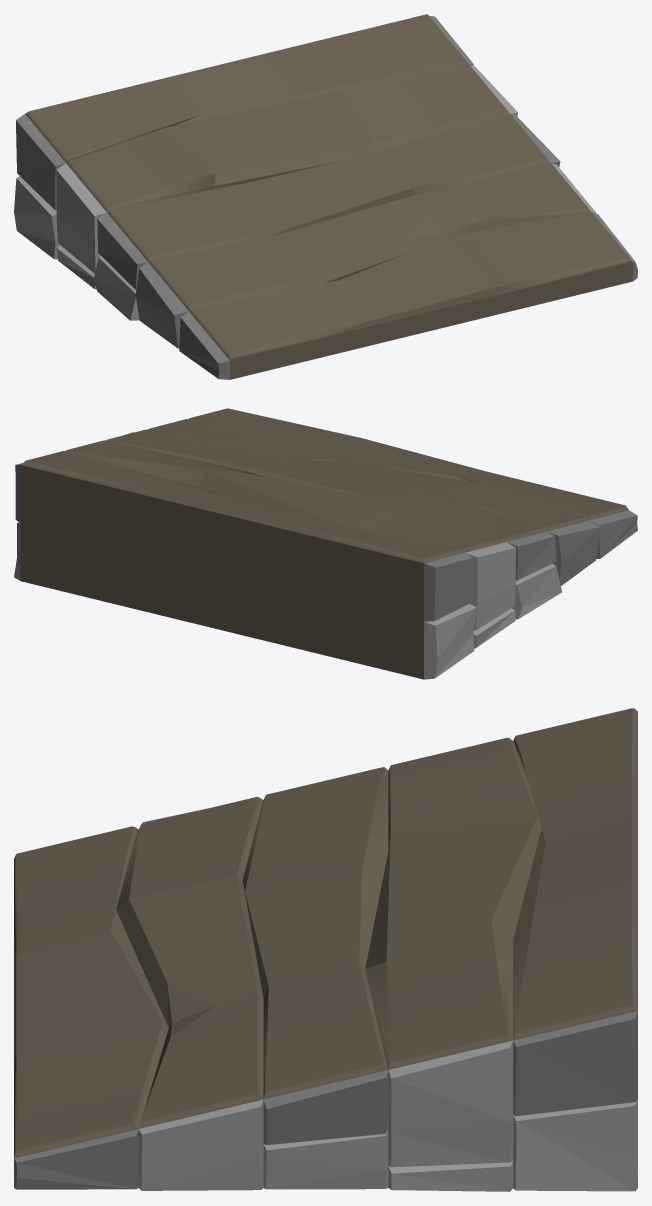
Rendered from _STAIRS_05_1.glb.
3 views of the same model, one above another, from view 1: azimuth 30°, elevation 25°; view 2: azimuth 150°, elevation 25°; view 3: azimuth 270°, elevation 25° (orthographic). The views are drawn at different scales.
Parts seen in each view (by area): view 1: STAIRS_05_1; view 2: STAIRS_05_1; view 3: STAIRS_05_1.
Part boxes in pixels (x1=…): STAIRS_05_1: x1=14, y1=14, x2=637, y2=379; STAIRS_05_1: x1=14, y1=408, x2=637, y2=679; STAIRS_05_1: x1=14, y1=708, x2=637, y2=1191.
Bounding box in the file's own units: 1.94 × 0.5146 × 1.6.
1 material, 1 textured.
